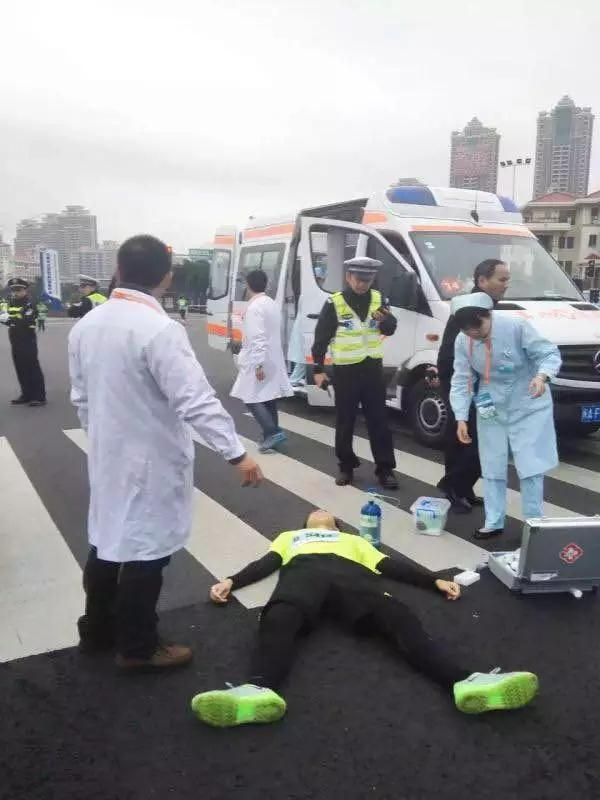bending: (443, 297, 561, 539)
down: (184, 498, 539, 732)
up: (74, 232, 269, 685), (311, 251, 411, 493), (431, 253, 506, 513), (234, 263, 301, 453), (7, 271, 49, 409)
